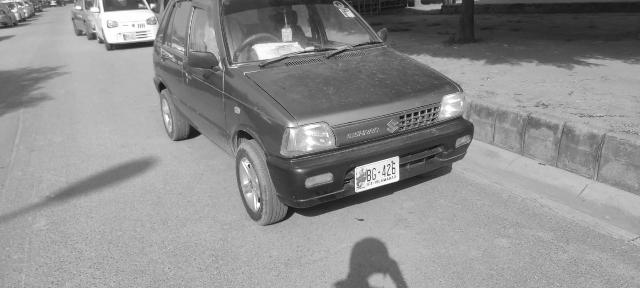Number: (366, 162, 397, 184)
